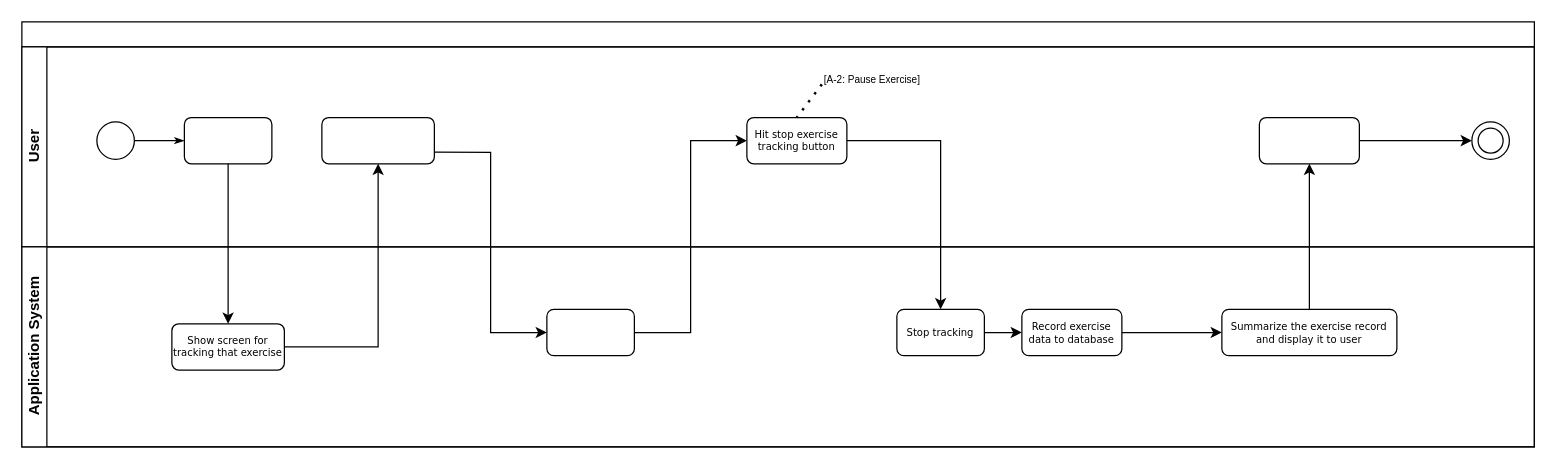
The diagram is 1556 pixels wide and 469 high, and some of its shapes have lost their labels. The shapes that lost their labels are listed below. From the top down, each one's centre as x and y in pixels, then its label:
pixel 227 140: Select Exercise Category
pixel 377 140: Hit start exercise tracking button
pixel 1308 140: Receive summary
pixel 590 332: Start tracking
